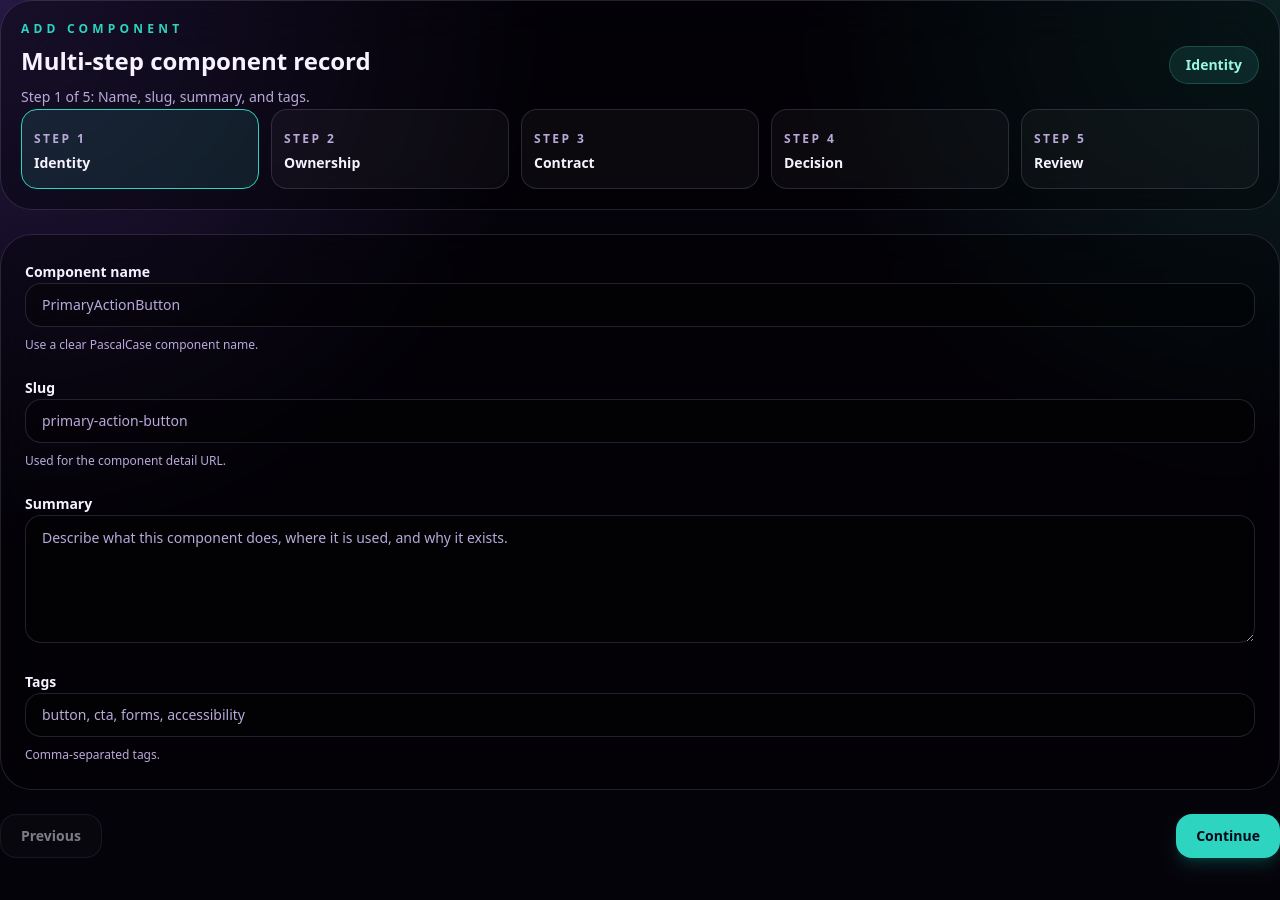
it: ComponentForm › prevents moving past the identity step when required fields are missing
The image size is (1280, 900).
What coordinates should you click on to do the following:
click the button "Continue"
I would click on:
 (1228, 836)
Its box is [1176,814,1279,858].
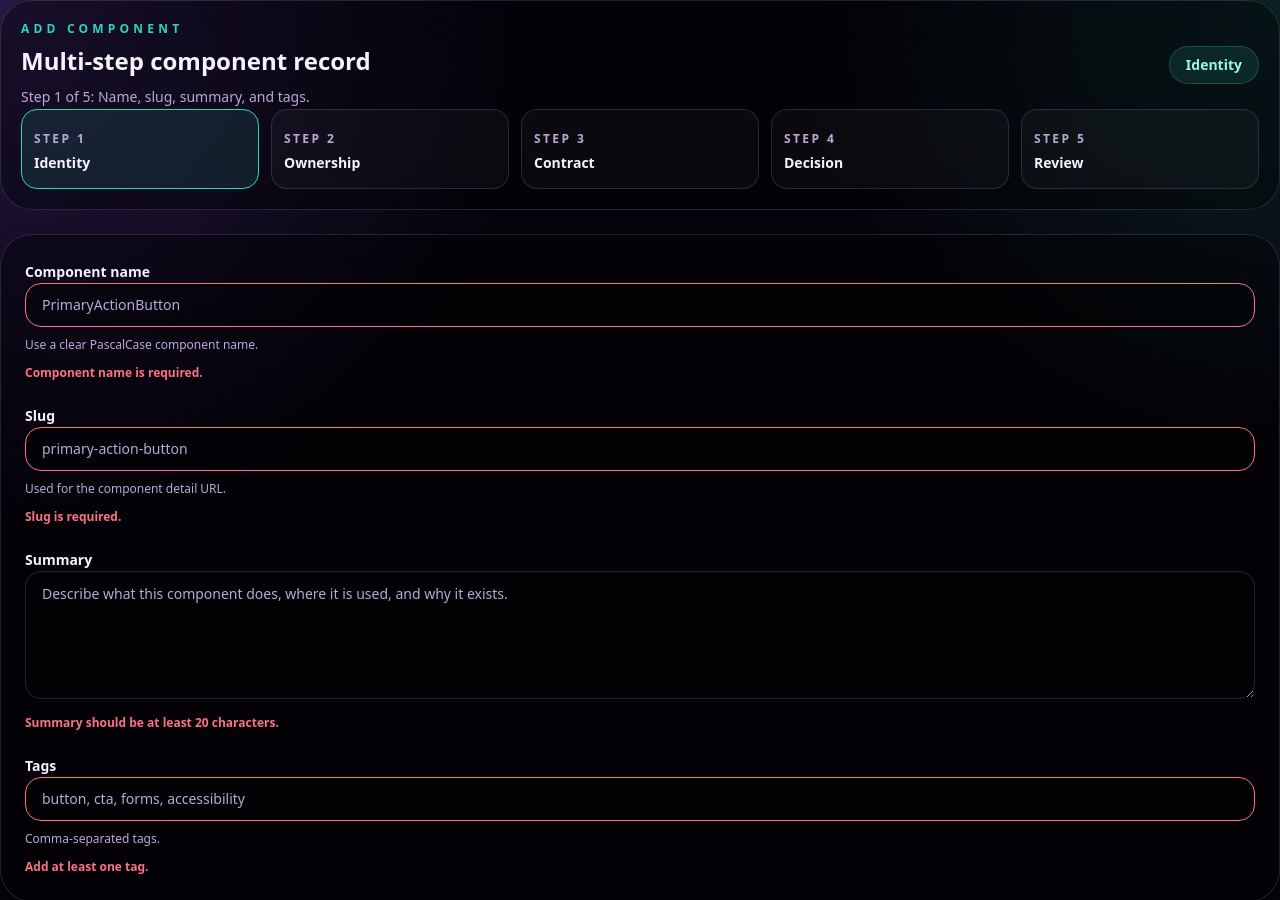
Expected: the text "Component name is required." is shown, [25,364,203,381]
Expected: the text "Slug is required." is shown, [25,508,121,525]
Expected: the text "Summary should be at least 20 characters." is shown, [25,714,279,731]
